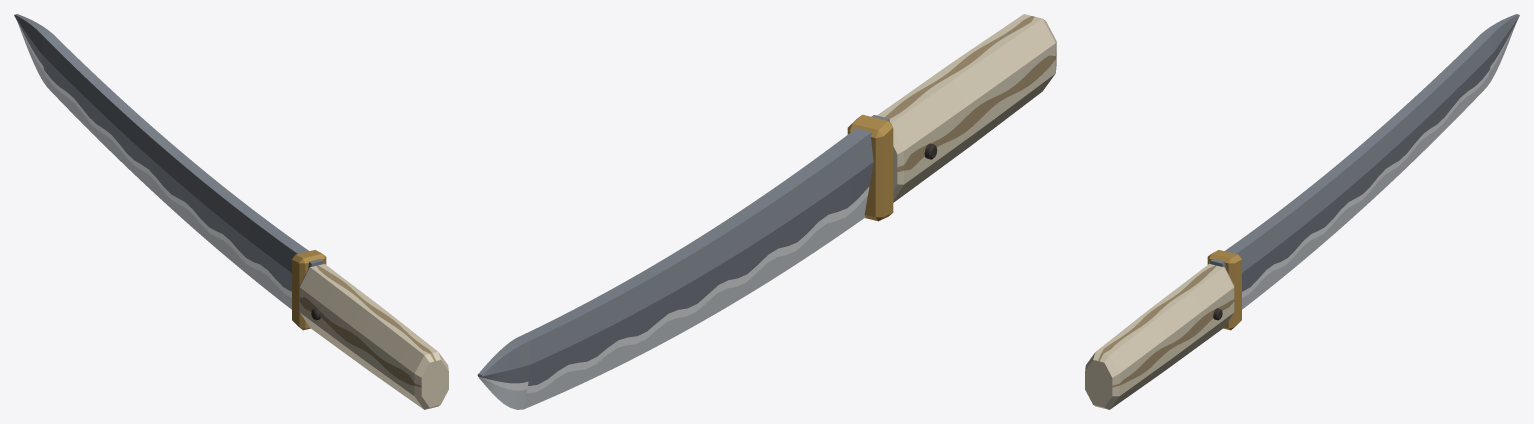
Rendered from w_katana@katana_shirasaya.glb.
The picture shows the model from 3 angles, left to right: view 1: azimuth 30°, elevation 25°; view 2: azimuth 150°, elevation 25°; view 3: azimuth 330°, elevation 25°; orthographic projection. The views are drawn at different scales.
Parts seen in each view (by area): view 1: kat_blade_wzB.002, kat_tsuka_wzA, kat_blade_wzB, kat_tsuka_wzN, kat_blade_wzB.001, kat_guard_wzN; view 2: kat_blade_wzB.002, kat_tsuka_wzA, kat_blade_wzB, kat_blade_wzB.001, kat_tsuka_wzN, kat_guard_wzN; view 3: kat_blade_wzB.002, kat_tsuka_wzA, kat_blade_wzB, kat_tsuka_wzN, kat_blade_wzB.001, kat_guard_wzN.
Part boxes in pixels (left/top/right/bottom): kat_blade_wzB.002: left=14, top=14, right=323, bottom=291; kat_tsuka_wzA: left=299, top=263, right=448, bottom=409; kat_blade_wzB: left=18, top=24, right=291, bottom=309; kat_tsuka_wzN: left=299, top=265, right=435, bottom=387; kat_blade_wzB.001: left=17, top=22, right=291, bottom=297; kat_guard_wzN: left=292, top=250, right=326, bottom=330; kat_blade_wzB.002: left=477, top=115, right=889, bottom=385; kat_tsuka_wzA: left=877, top=14, right=1056, bottom=202; kat_blade_wzB: left=479, top=196, right=867, bottom=409; kat_blade_wzB.001: left=478, top=187, right=869, bottom=393; kat_tsuka_wzN: left=885, top=16, right=1056, bottom=171; kat_guard_wzN: left=847, top=114, right=893, bottom=221; kat_blade_wzB.002: left=1210, top=14, right=1519, bottom=291; kat_tsuka_wzA: left=1085, top=263, right=1234, bottom=409; kat_blade_wzB: left=1242, top=22, right=1516, bottom=309; kat_tsuka_wzN: left=1098, top=265, right=1234, bottom=387; kat_blade_wzB.001: left=1242, top=22, right=1516, bottom=297; kat_guard_wzN: left=1207, top=250, right=1241, bottom=330.
Size of the model in its own units: 0.058 by 0.1279 by 0.9687.
